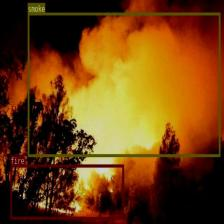fire: (10, 164, 124, 219)
smoke: (27, 12, 220, 156)
